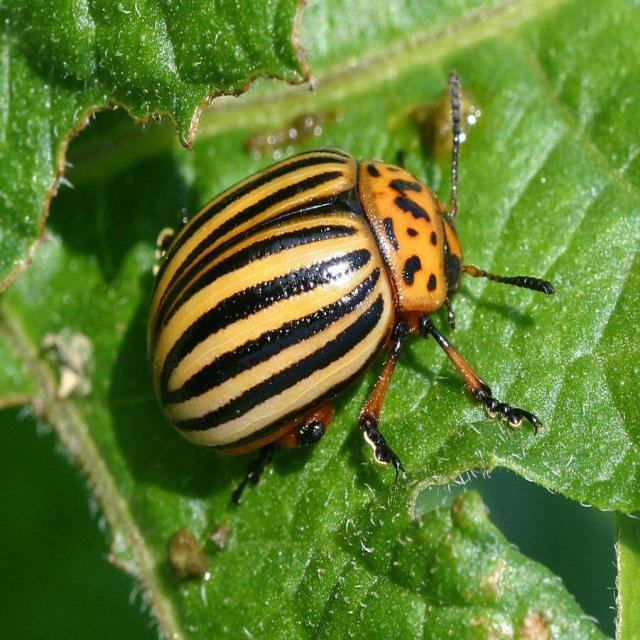ShuCaiHuaBanChong-Grown-: (142, 134, 494, 492)
